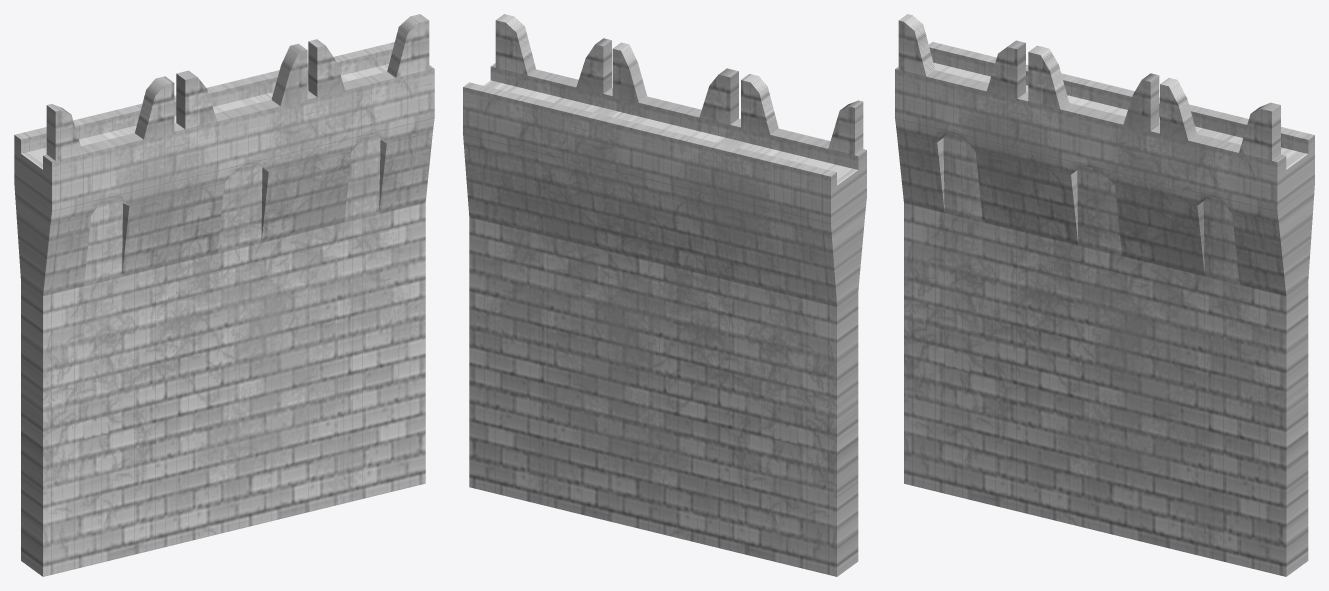
The model's file is wall_obj.obj.
3 views of the same model, side by side, from view 1: azimuth 30°, elevation 25°; view 2: azimuth 150°, elevation 25°; view 3: azimuth 330°, elevation 25° (orthographic). The views are drawn at different scales.
Visible parts, largest first — view 1: pCube1; view 2: pCube1; view 3: pCube1.
Boxes of the visible parts, x1,y1,x2,y2 form: pCube1: (14,14,434,576); pCube1: (463,14,866,576); pCube1: (895,14,1314,576).
Bounding box in the file's own units: 10 × 11.76 × 1.72.
